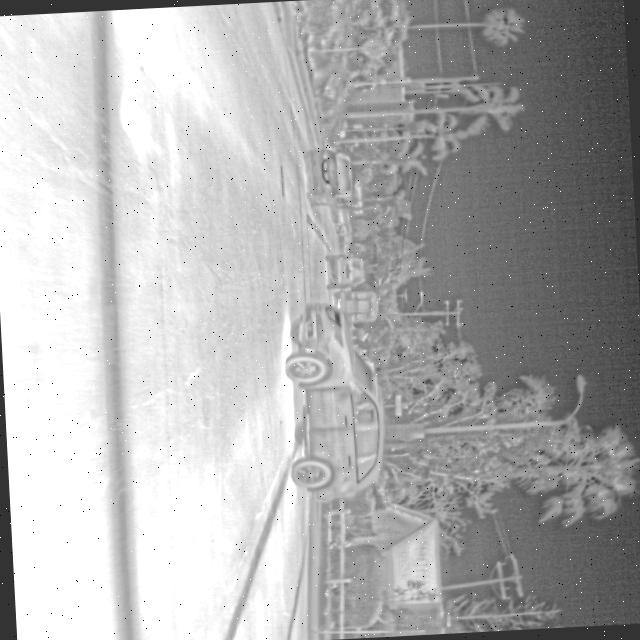Vehicle: (278, 298, 391, 507), (300, 145, 358, 210), (322, 250, 368, 293), (332, 288, 382, 326)
